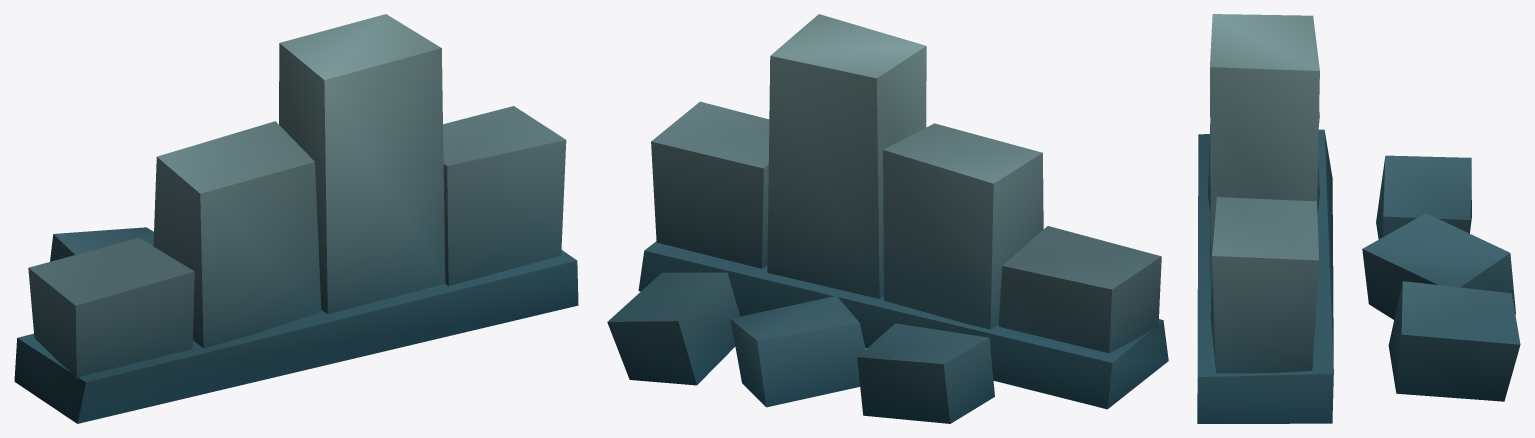
File: ruin_wall_broken.glb
3 renders of one model, left to right at view 1: azimuth 30°, elevation 25°; view 2: azimuth 150°, elevation 25°; view 3: azimuth 270°, elevation 25°, orthographic. The views are drawn at different scales.
Visible parts, largest first — view 1: ruin_wall_broken_stone; view 2: ruin_wall_broken_stone; view 3: ruin_wall_broken_stone.
Boxes of the visible parts, x1=… form: ruin_wall_broken_stone: x1=14, y1=14, x2=578, y2=423; ruin_wall_broken_stone: x1=607, y1=14, x2=1168, y2=423; ruin_wall_broken_stone: x1=1197, y1=14, x2=1520, y2=423.
Size of the model in its own units: 4.05 by 2.31 by 2.21.
